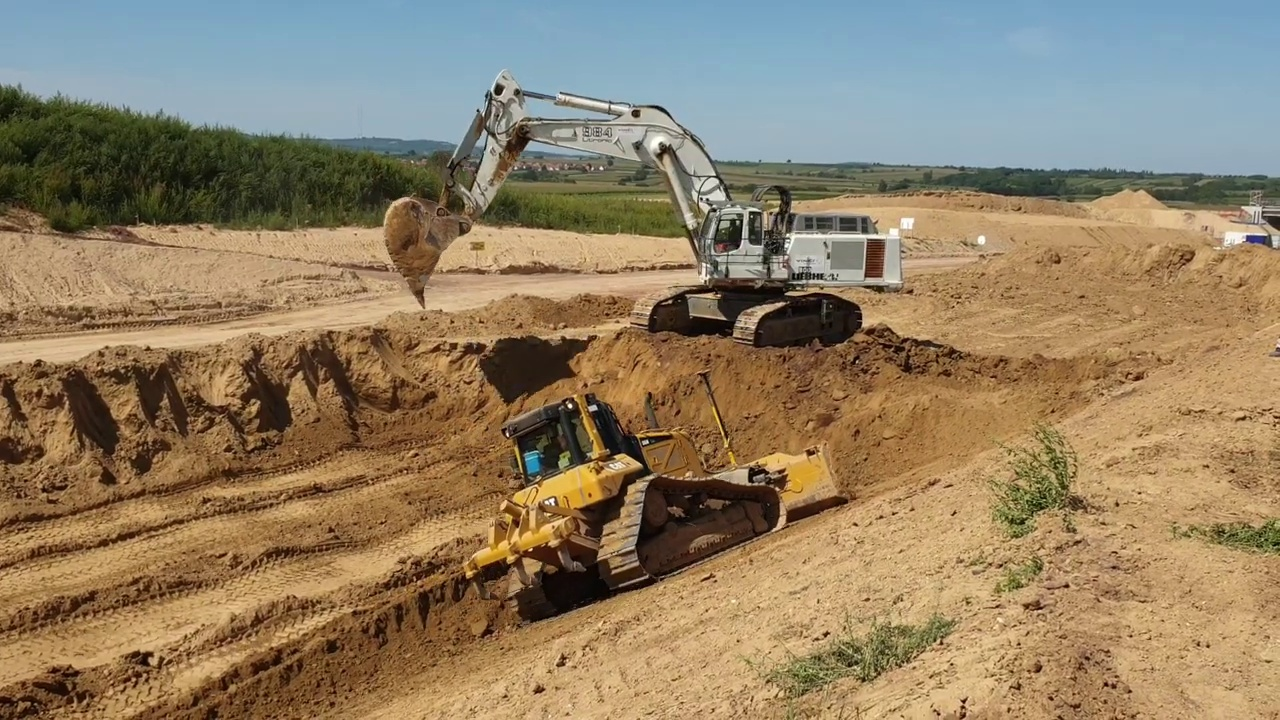bulldozer: (467, 392, 846, 616)
excavator: (381, 69, 906, 353)
